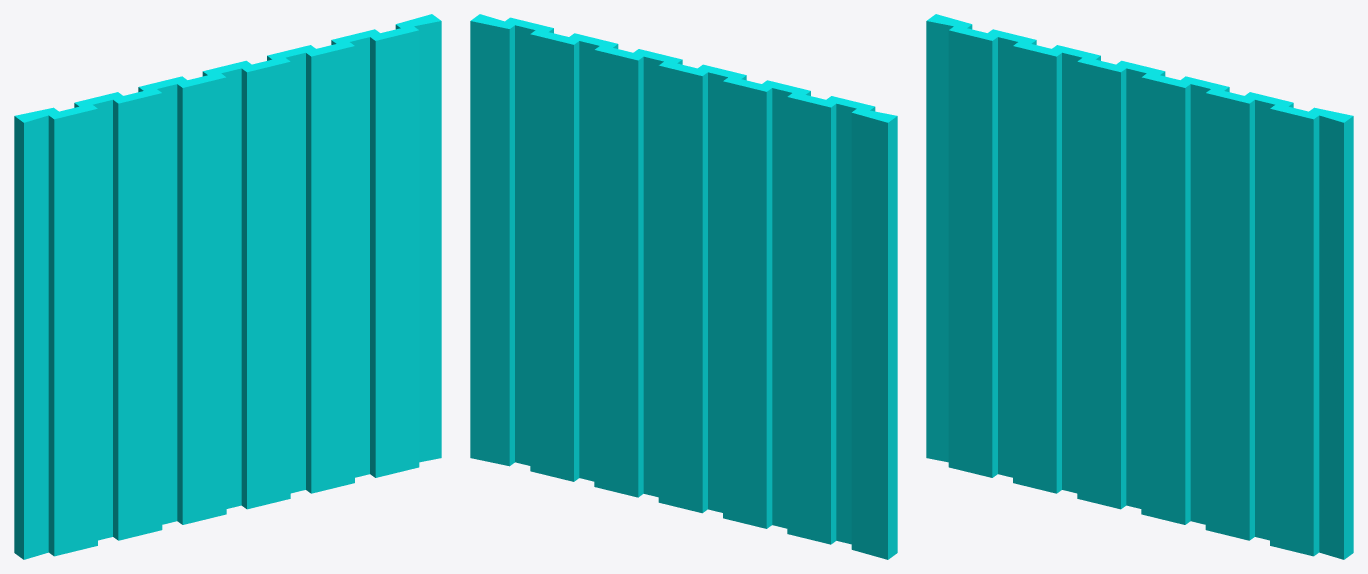
File: Wall.glb
The picture shows the model from 3 angles, left to right: view 1: azimuth 30°, elevation 25°; view 2: azimuth 150°, elevation 25°; view 3: azimuth 330°, elevation 25°; orthographic projection.
Visible parts, largest first — view 1: Plane.065; view 2: Plane.065; view 3: Plane.065.
Boxes of the visible parts, x1=… form: Plane.065: x1=14, y1=14, x2=441, y2=559; Plane.065: x1=470, y1=14, x2=897, y2=559; Plane.065: x1=926, y1=14, x2=1353, y2=559.
Bounding box in the file's own units: 1.01 × 1.01 × 0.0568.
